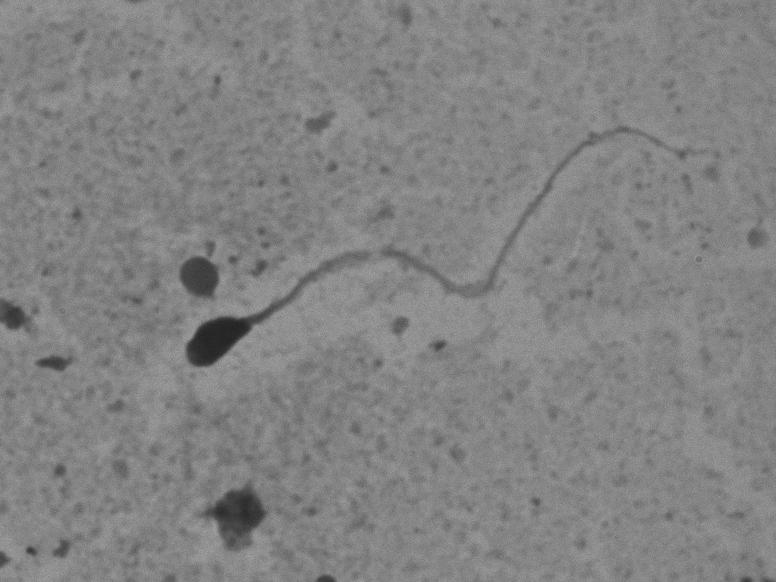Abnormal: (177, 81, 717, 400)
